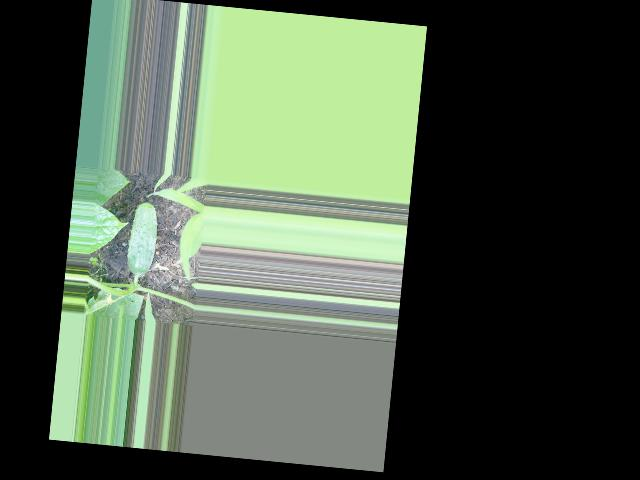cucumber: (125, 200, 160, 276)
